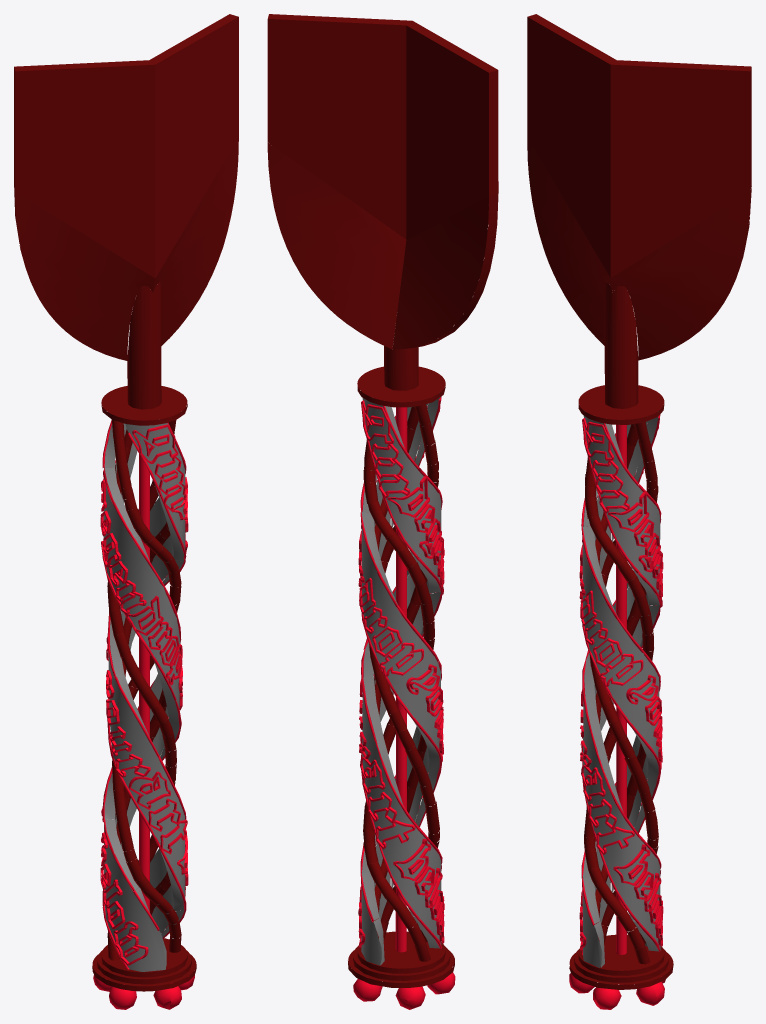
The model's file is midasspade-red-v114.glb.
The picture shows the model from 3 angles, left to right: view 1: azimuth 30°, elevation 25°; view 2: azimuth 150°, elevation 25°; view 3: azimuth 330°, elevation 25°; orthographic projection. The views are drawn at different scales.
Parts seen in each view (by area): view 1: /Chrome_Black; view 2: /Chrome_Black; view 3: /Chrome_Black.
Part boxes in pixels (x1,y1,x2,y2): /Chrome_Black: (14, 14, 238, 1009); /Chrome_Black: (267, 14, 498, 1009); /Chrome_Black: (527, 14, 751, 1009).
Bounding box in the file's own units: 0.4573 × 1.83 × 0.186.
1 material, 1 textured.
